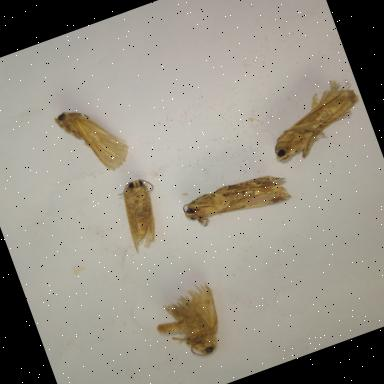abw: (248, 71, 371, 167), (137, 274, 243, 376), (171, 161, 295, 243), (48, 88, 142, 186), (105, 174, 174, 258)
